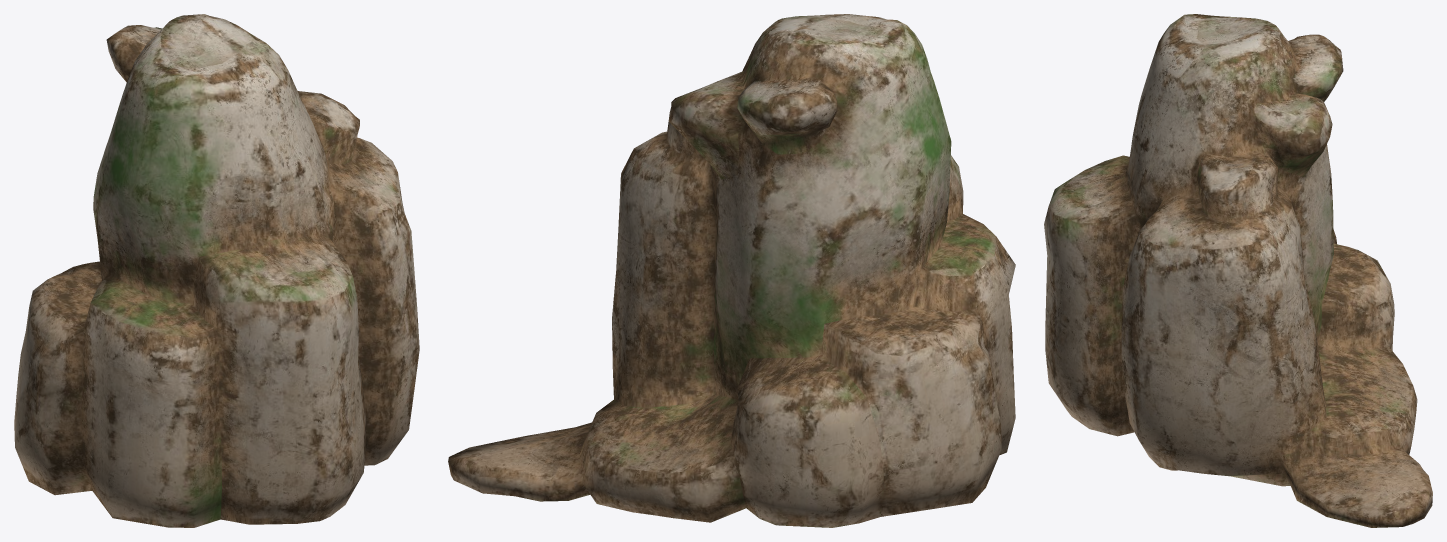
File: rock.glb
The picture shows the model from 3 angles, left to right: view 1: azimuth 30°, elevation 25°; view 2: azimuth 150°, elevation 25°; view 3: azimuth 270°, elevation 25°; orthographic projection. The views are drawn at different scales.
Parts seen in each view (by area): view 1: mt_lp; view 2: mt_lp; view 3: mt_lp.
Boxes of the visible parts, x1=… form: mt_lp: x1=14, y1=14, x2=419, y2=527; mt_lp: x1=448, y1=14, x2=1015, y2=527; mt_lp: x1=1044, y1=14, x2=1432, y2=527.
Size of the model in its own units: 8.37 by 8.1 by 7.21.
Materials: 1 (1 with a texture image).
